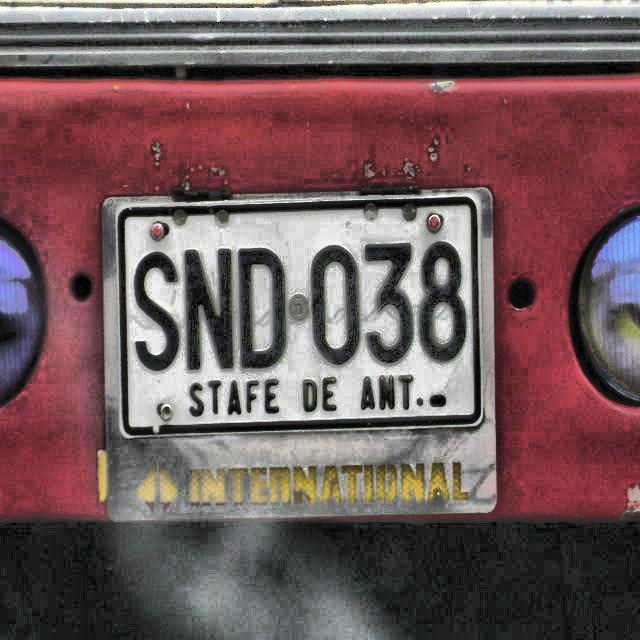plate: (121, 201, 475, 431)
